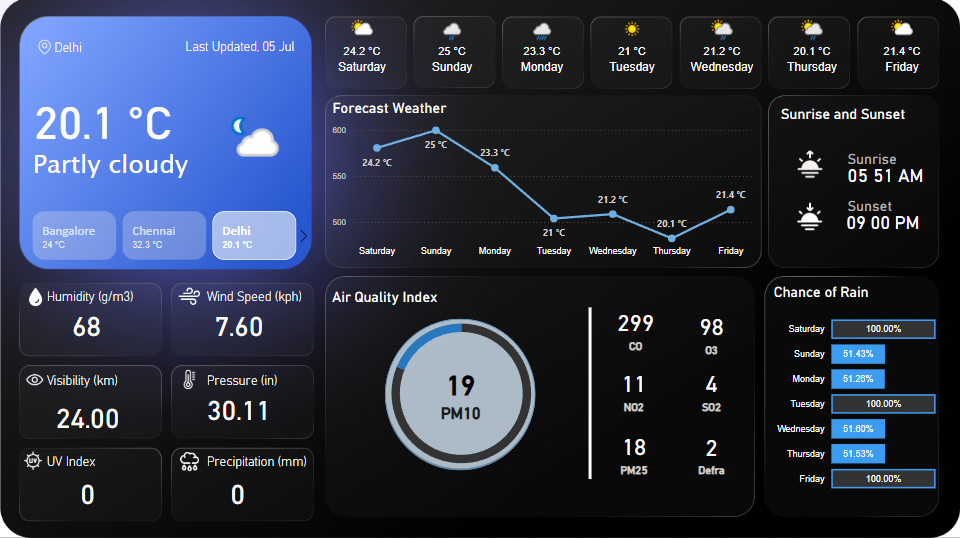

Layout of this report page (visuals, bound fields, positions):
{"tool":"powerbi","page":{"name":"Page 1","canvas":[1280,720],"ordinal":0},"visuals":[{"type":"advancedSlicerVisual","fields":{"Values":["Locations.location.name"]},"box":[17.5,276.2,402.5,75],"z":0},{"type":"shape","box":[36.2,106.2,222.5,112.5],"z":1000},{"type":"shape","box":[36.2,170,403.8,97.5],"z":2000},{"type":"shape","box":[67.5,36.2,110,52.5],"z":3000},{"type":"shape","box":[237.7,35,158,53.1],"z":4000},{"type":"image","box":[26.2,47.5,66.2,28.8],"z":5000},{"type":"cardVisual","fields":{"Data":["Min(current.current.condition.icon)"]},"box":[270.9,133.3,124.9,106.7],"z":6000},{"type":"image","box":[26.7,488.4,39.3,36.5],"z":7000},{"type":"shape","box":[58.9,480,158.6,53.3],"z":8000},{"type":"shape","box":[270.9,367.7,158.6,53.3],"z":9000},{"type":"image","box":[26.7,377.5,42.1,35.1],"z":10000},{"type":"shape","box":[58.9,367.7,158.6,53.3],"z":11000},{"type":"image","box":[230.2,374.7,45,40],"z":12000},{"type":"shape","box":[270.9,480,158.6,53.3],"z":13000},{"type":"shape","box":[270.9,588.1,158.6,53.3],"z":14000},{"type":"shape","box":[58.9,588.1,158.6,53.3],"z":15000},{"type":"image","box":[230.2,595.1,44.9,40.7],"z":16000},{"type":"image","box":[21.1,596.5,44.9,35],"z":17000},{"type":"image","box":[230.2,488.4,44.9,35.1],"z":18000},{"type":"card","fields":{"Values":["Sum(current.current.humidity)"]},"box":[50.5,390.2,130.5,85.6],"z":19000},{"type":"card","fields":{"Values":["Sum(current.current.wind_kph)"]},"box":[252.6,390.2,130.5,85.6],"z":20000},{"type":"card","fields":{"Values":["Sum(current.current.pressure_in)"]},"box":[252.6,502.5,130.5,85.6],"z":21000},{"type":"card","fields":{"Values":["Sum(current.current.precip_mm)"]},"box":[251.2,613.3,130.5,85.6],"z":22000},{"type":"card","fields":{"Values":["Sum(current.current.vis_km)"]},"box":[51.9,510.9,130.5,85.6],"z":23000},{"type":"card","fields":{"Values":["Sum(current.current.uv)"]},"box":[51.9,613.3,130.5,85.6],"z":24000},{"type":"advancedSlicerVisual","fields":{"Values":["forecast_day.Day_Name"]},"box":[422.5,15.4,844.9,101.1],"z":25000},{"type":"lineChart","title":"Forecast Weather","fields":{"Y":["Sum(forecast_day.forecast.forecastday.day.avgtemp_c)"],"Category":["forecast_day.Day_Name"]},"box":[437.9,133.3,572.6,217.5],"z":26000},{"type":"shape","box":[1038.6,133.3,211.9,36.5],"z":27000},{"type":"shape","box":[1047,169.8,221.8,112.3],"z":28000},{"type":"shape","box":[1124.2,178.2,124.9,68.8],"z":29000},{"type":"shape","box":[1124.6,240.6,125.3,68.5],"z":30000},{"type":"shape","box":[1124.2,200.7,124.9,68.8],"z":31000},{"type":"shape","box":[1122.9,262.3,125.3,68.5],"z":32000},{"type":"image","box":[1049.8,193.7,60.4,50.5],"z":33000},{"type":"image","box":[1049.8,263.9,60.4,50.5],"z":34000},{"type":"hundredPercentStackedBarChart","title":"Chance of Rain","fields":{"Category":["forecast_day.Day_Name"],"Y":["Sum(forecast_day.forecast.forecastday.day.daily_chance_of_rain)","_Measures.left_value_rain"]},"box":[1026,377.5,226,291.9],"z":35000},{"type":"shape","box":[440.7,377.5,211.9,36.5],"z":36000},{"type":"card","fields":{"Values":["Sum(current.current.air_quality.co)"]},"box":[800,400,95.4,75.8],"z":37000},{"type":"card","fields":{"Values":["Sum(current.current.air_quality.gb-defra-index)"]},"box":[906.7,568.4,84.2,70.2],"z":38000},{"type":"shape","box":[513,424.4,200.5,202.2],"z":38250},{"type":"shape","box":[513.7,425.3,200.7,200.7],"z":38500},{"type":"card","fields":{"Values":["Sum(current.current.air_quality.no2)"]},"box":[797.2,481.4,96.8,74.4],"z":39000},{"type":"card","fields":{"Values":["Sum(current.current.air_quality.o3)"]},"box":[906.7,400,84.2,85.6],"z":40000},{"type":"card","fields":{"Values":["Sum(current.current.air_quality.pm2_5)"]},"box":[800,565.6,91.2,75.8],"z":42000},{"type":"card","fields":{"Values":["Sum(current.current.air_quality.so2)"]},"box":[906.7,481.4,84.2,74.4],"z":43000},{"type":"shape","box":[738.2,409.8,96.8,228.8],"z":44000},{"type":"donutChart","fields":{"Y":["_Measures.left_pm10","Sum(current.current.air_quality.pm10)"]},"box":[482.8,402.8,263.9,242.8],"z":45000},{"type":"card","fields":{"Values":["Sum(current.current.air_quality.pm10)"]},"box":[548.1,467.9,132,108.6],"z":45500}]}

Visuals, with their boxes in screenshot pixels (x1, y1, x2, y2), scaled from the page's 1280x720 canvas onto the 960x538 screenshot:
advancedSlicerVisual - Locations.location.name: 13, 206, 315, 262
shape: 27, 79, 194, 163
shape: 27, 127, 330, 200
shape: 51, 27, 133, 66
shape: 178, 26, 297, 66
image: 20, 35, 69, 57
cardVisual - Min(current.current.condition.icon): 203, 100, 297, 179
image: 20, 365, 50, 392
shape: 44, 359, 163, 398
shape: 203, 275, 322, 315
image: 20, 282, 52, 308
shape: 44, 275, 163, 315
image: 173, 280, 206, 310
shape: 203, 359, 322, 398
shape: 203, 439, 322, 479
shape: 44, 439, 163, 479
image: 173, 445, 206, 475
image: 16, 446, 50, 472
image: 173, 365, 206, 391
card - Sum(current.current.humidity): 38, 292, 136, 356
card - Sum(current.current.wind_kph): 189, 292, 287, 356
card - Sum(current.current.pressure_in): 189, 375, 287, 439
card - Sum(current.current.precip_mm): 188, 458, 286, 522
card - Sum(current.current.vis_km): 39, 382, 137, 446
card - Sum(current.current.uv): 39, 458, 137, 522
advancedSlicerVisual - forecast_day.Day_Name: 317, 12, 951, 87
"Forecast Weather" lineChart: 328, 100, 758, 262
shape: 779, 100, 938, 127
shape: 785, 127, 952, 211
shape: 843, 133, 937, 185
shape: 843, 180, 937, 231
shape: 843, 150, 937, 201
shape: 842, 196, 936, 247
image: 787, 145, 833, 182
image: 787, 197, 833, 235
"Chance of Rain" hundredPercentStackedBarChart: 770, 282, 939, 500
shape: 331, 282, 489, 309
card - Sum(current.current.air_quality.co): 600, 299, 672, 356
card - Sum(current.current.air_quality.gb-defra-index): 680, 425, 743, 477
shape: 385, 317, 535, 468
shape: 385, 318, 536, 468
card - Sum(current.current.air_quality.no2): 598, 360, 670, 415
card - Sum(current.current.air_quality.o3): 680, 299, 743, 363
card - Sum(current.current.air_quality.pm2_5): 600, 423, 668, 479
card - Sum(current.current.air_quality.so2): 680, 360, 743, 415
shape: 554, 306, 626, 477
donutChart - _Measures.left_pm10 x Sum(current.current.air_quality.pm10): 362, 301, 560, 482
card - Sum(current.current.air_quality.pm10): 411, 350, 510, 431
